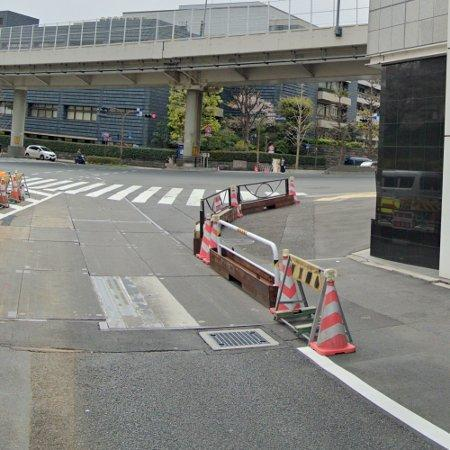crosswalks: (3, 171, 280, 206)
